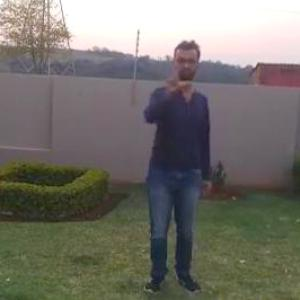land_hand: (164, 66, 190, 107)
